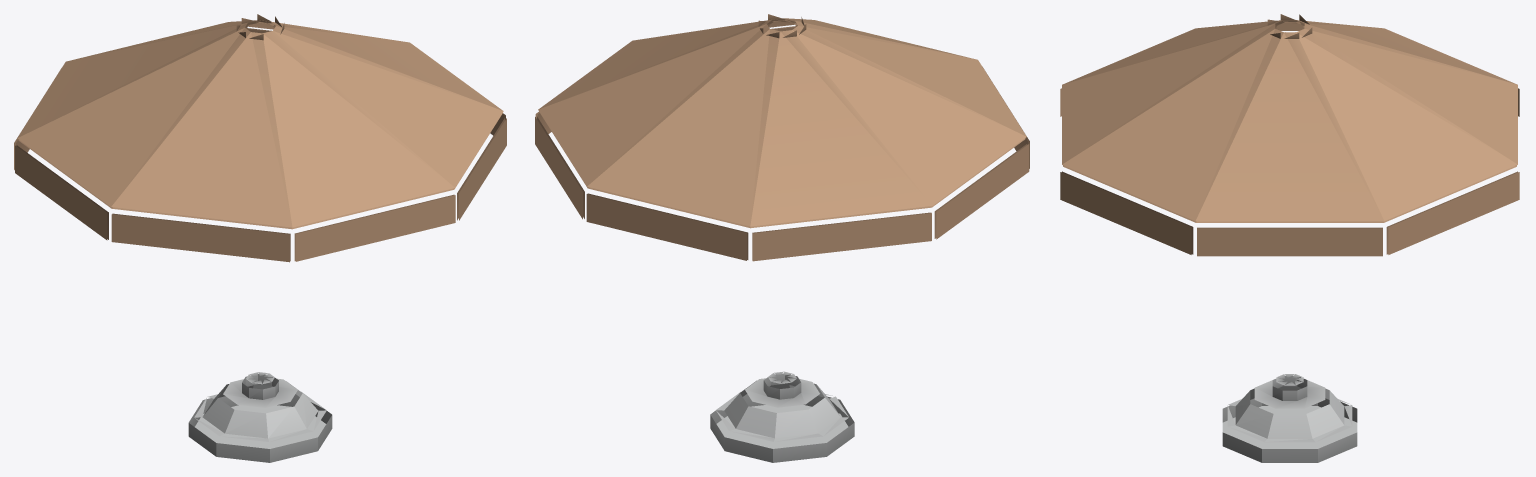
File: parasol.lod.glb
The picture shows the model from 3 angles, left to right: view 1: azimuth 30°, elevation 25°; view 2: azimuth 150°, elevation 25°; view 3: azimuth 270°, elevation 25°; orthographic projection.
Visible parts, largest first — view 1: parasol; view 2: parasol; view 3: parasol.
Part boxes in pixels (left/top/right/bottom): parasol: left=14, top=14, right=506, bottom=462; parasol: left=535, top=14, right=1029, bottom=462; parasol: left=1060, top=14, right=1519, bottom=462.
Bounding box in the file's own units: 2.7 × 2.64 × 2.7.
